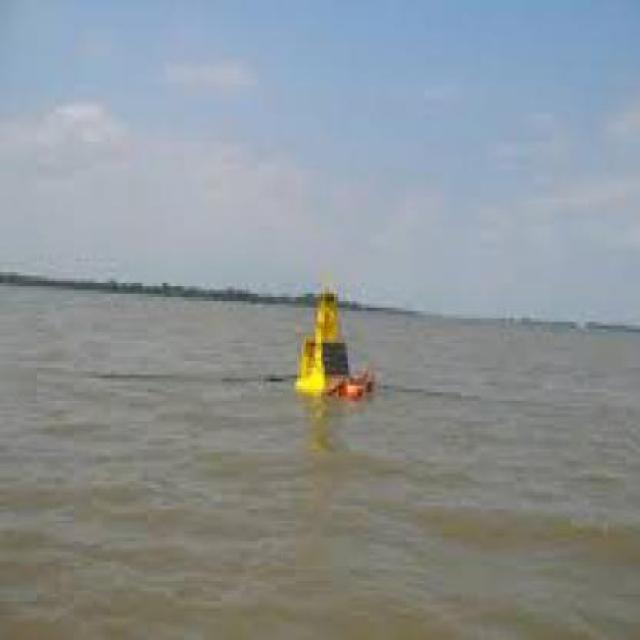buoy: (284, 280, 383, 422)
